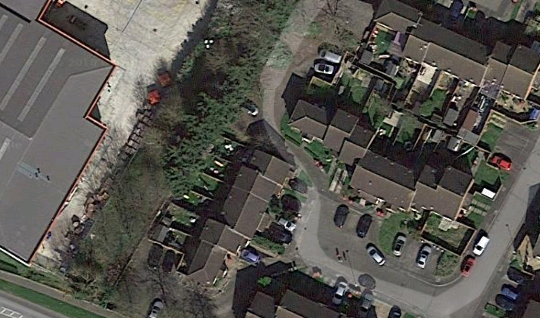tree: (155, 139, 211, 197)
